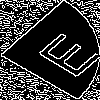E: (24, 25, 100, 80)
